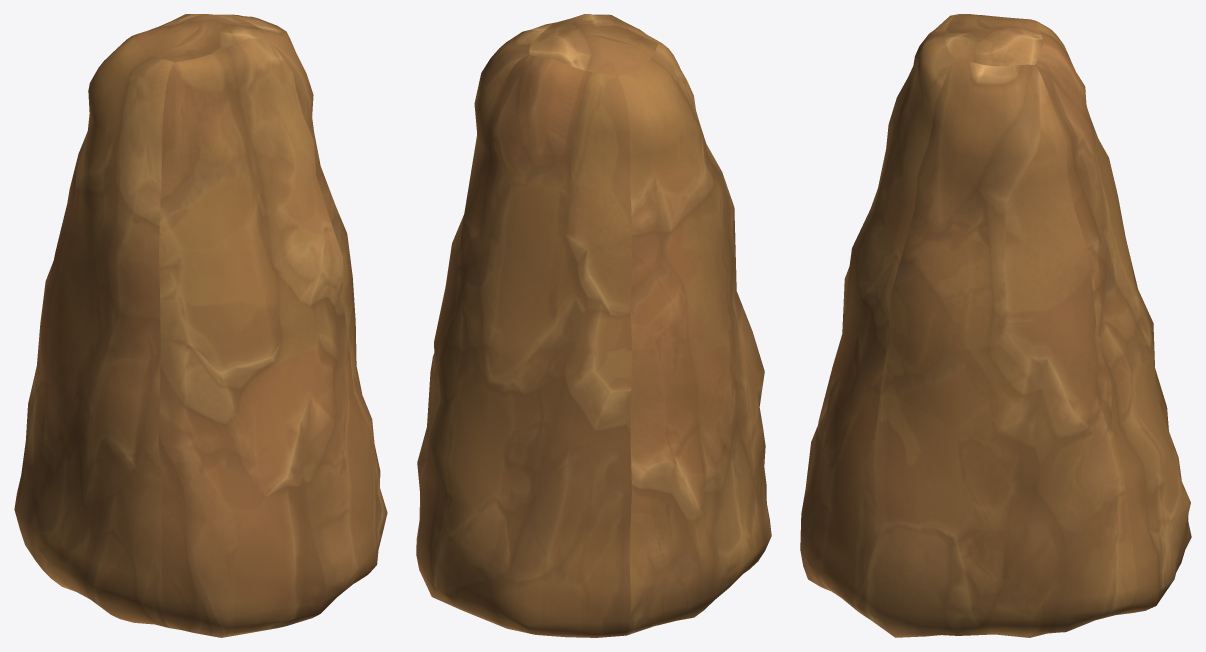
File: Low_islands4.fbx
The picture shows the model from 3 angles, left to right: view 1: azimuth 30°, elevation 25°; view 2: azimuth 150°, elevation 25°; view 3: azimuth 270°, elevation 25°; orthographic projection. The views are drawn at different scales.
Parts seen in each view (by area): view 1: Cube.003; view 2: Cube.003; view 3: Cube.003.
Part boxes in pixels (x1,y1,x2,y2): Cube.003: [14, 14, 387, 637]; Cube.003: [416, 14, 771, 637]; Cube.003: [800, 14, 1191, 637].
Size of the model in its own units: 905 by 1639 by 1008.
Materials: 1 (1 with a texture image).
